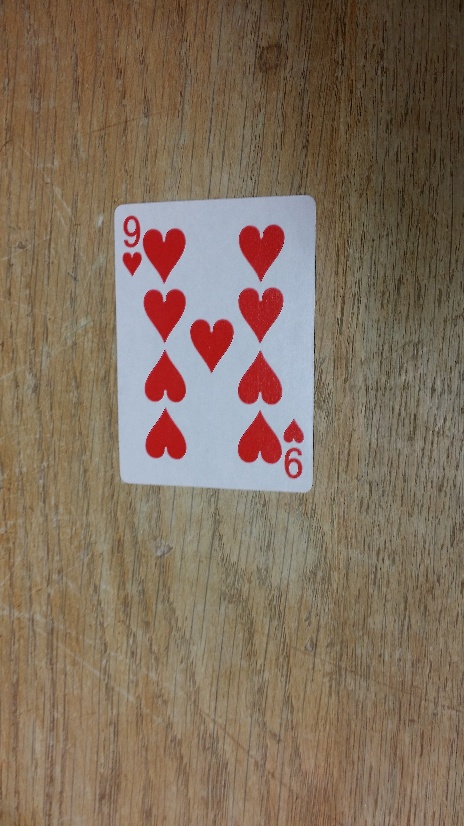H9: (118, 209, 145, 277), (280, 414, 305, 479)
